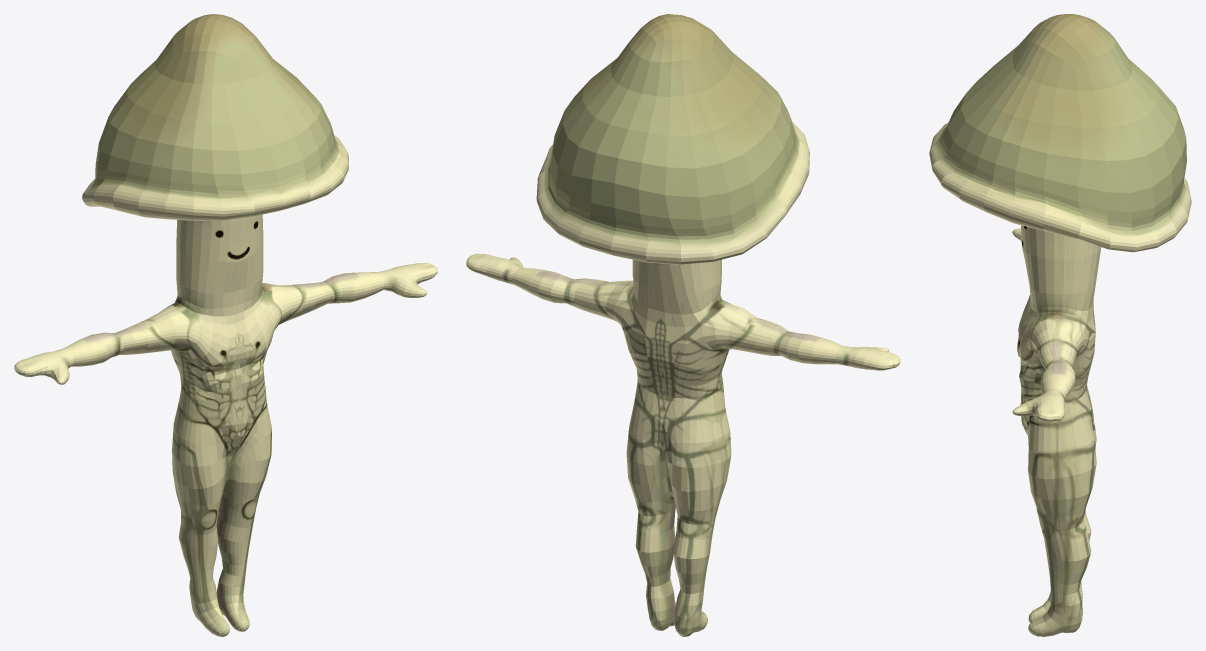
Rendered from Meshy_AI_Caphead_0602020923_texture.obj.
3 renders of one model, left to right at view 1: azimuth 30°, elevation 25°; view 2: azimuth 150°, elevation 25°; view 3: azimuth 270°, elevation 25°, orthographic. The views are drawn at different scales.
Visible parts, largest first — view 1: Meshy_AI_Caphead_0602020923_texture; view 2: Meshy_AI_Caphead_0602020923_texture; view 3: Meshy_AI_Caphead_0602020923_texture.
Boxes of the visible parts, left/top/right/bottom form: Meshy_AI_Caphead_0602020923_texture: left=14, top=14, right=437, bottom=636; Meshy_AI_Caphead_0602020923_texture: left=466, top=14, right=900, bottom=636; Meshy_AI_Caphead_0602020923_texture: left=929, top=14, right=1191, bottom=636.
Size of the model in its own units: 1.39 by 1.91 by 0.7413.
Materials: 1 (1 with a texture image).
